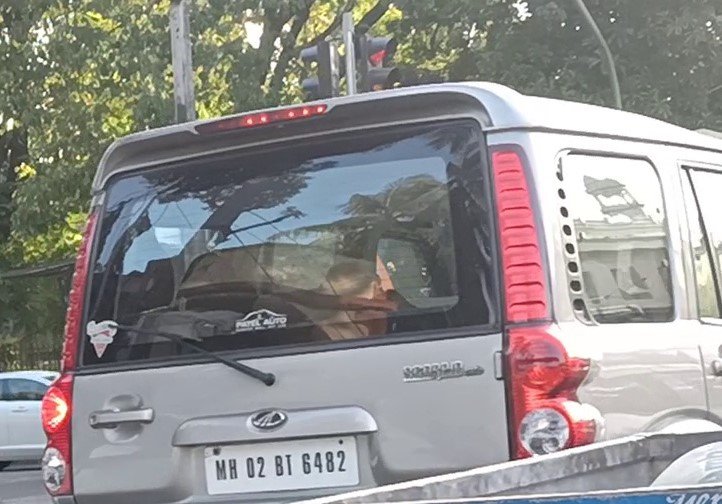MH02BT6482: (204, 435, 360, 495)
